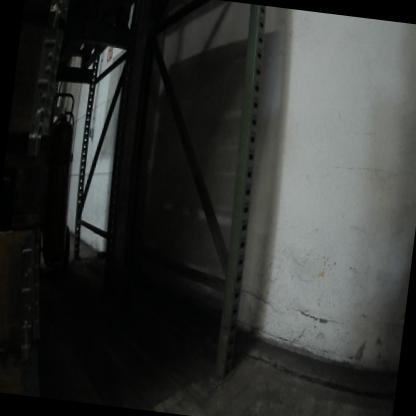pallet: (27, 0, 142, 89)
